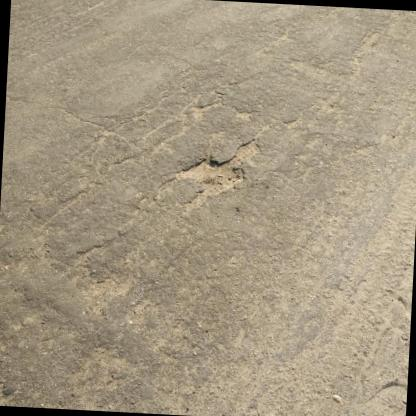pothole: (170, 154, 248, 198), (233, 138, 262, 158)
